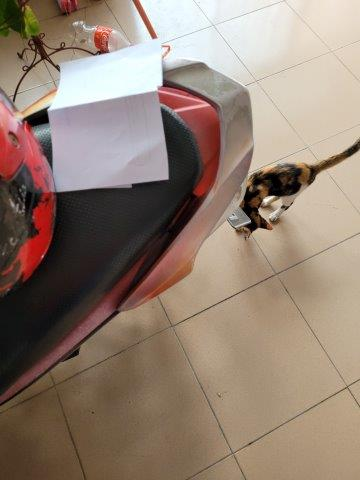botolplastik: (68, 22, 124, 51)
kertas: (48, 42, 169, 188)
